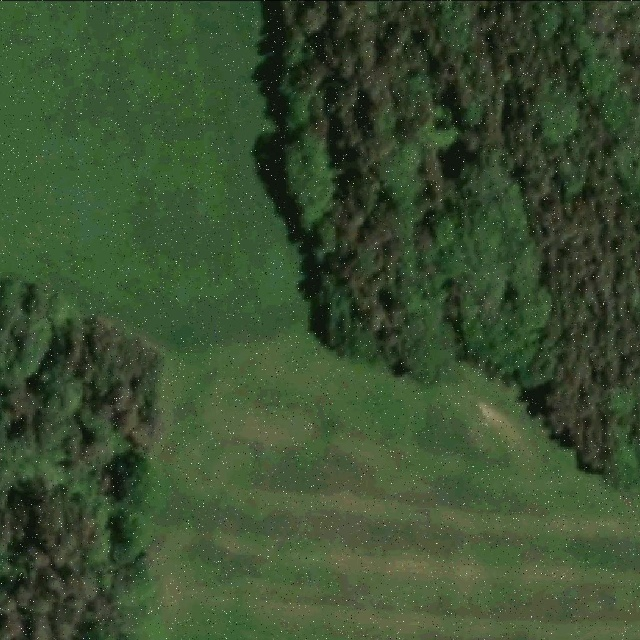vegetation: (276, 0, 640, 492), (0, 269, 163, 640)
